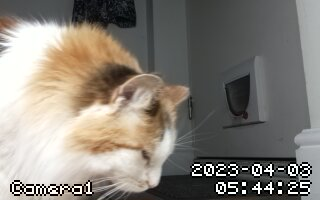clara: (7, 25, 191, 194)
